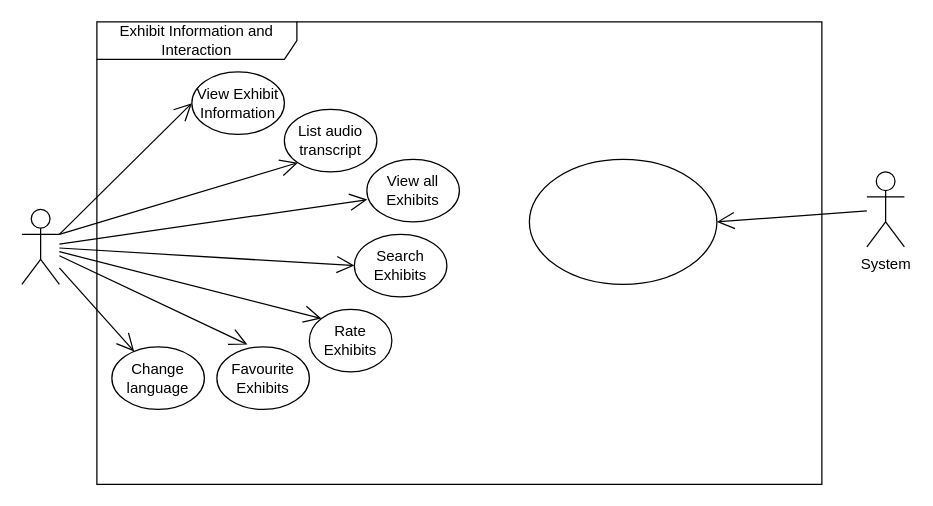
Image size: 933x506. Some labels were removed from this diagram. The box of each missing label's shape, as (x1, y1, x2, y2) in pixels:
Provide personalized routes through preferences: (528, 158, 717, 284)
User: (21, 208, 59, 284)
